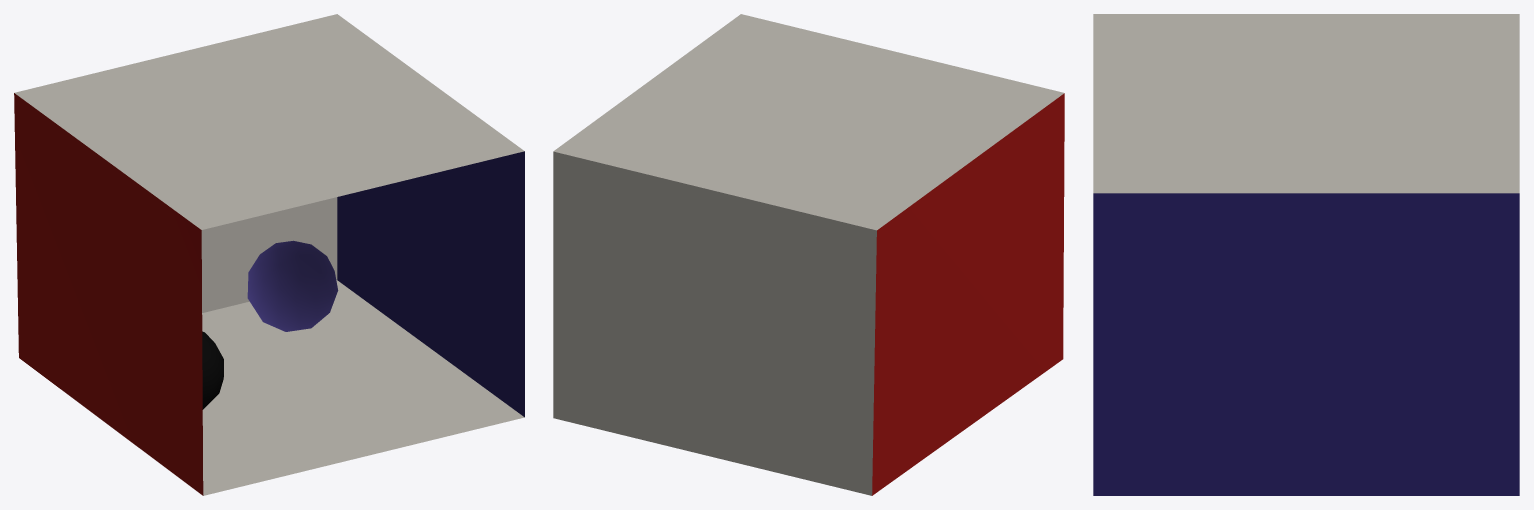
File: CornellBox-Sphere-494.obj
3 views of the same model, side by side, from view 1: azimuth 30°, elevation 25°; view 2: azimuth 150°, elevation 25°; view 3: azimuth 270°, elevation 25° (orthographic). The views are drawn at different scales.
Visible parts, largest first — view 1: ceiling, leftWall, floor, rightWall, backWall, leftSphere, rightSphere; view 2: backWall, ceiling, leftWall; view 3: rightWall, ceiling.
Part boxes in pixels (x1=…): ceiling: x1=14, y1=14, x2=524, y2=229; leftWall: x1=14, y1=93, x2=203, y2=495; floor: x1=202, y1=280, x2=524, y2=495; rightWall: x1=337, y1=151, x2=524, y2=417; backWall: x1=201, y1=197, x2=337, y2=312; leftSphere: x1=247, y1=240, x2=338, y2=331; rightSphere: x1=202, y1=331, x2=223, y2=409; backWall: x1=553, y1=151, x2=876, y2=495; ceiling: x1=553, y1=14, x2=1064, y2=230; leftWall: x1=872, y1=93, x2=1064, y2=495; rightWall: x1=1093, y1=193, x2=1519, y2=495; ceiling: x1=1093, y1=14, x2=1519, y2=193.
Size of the model in its own units: 2.02 by 1.59 by 2.03.
